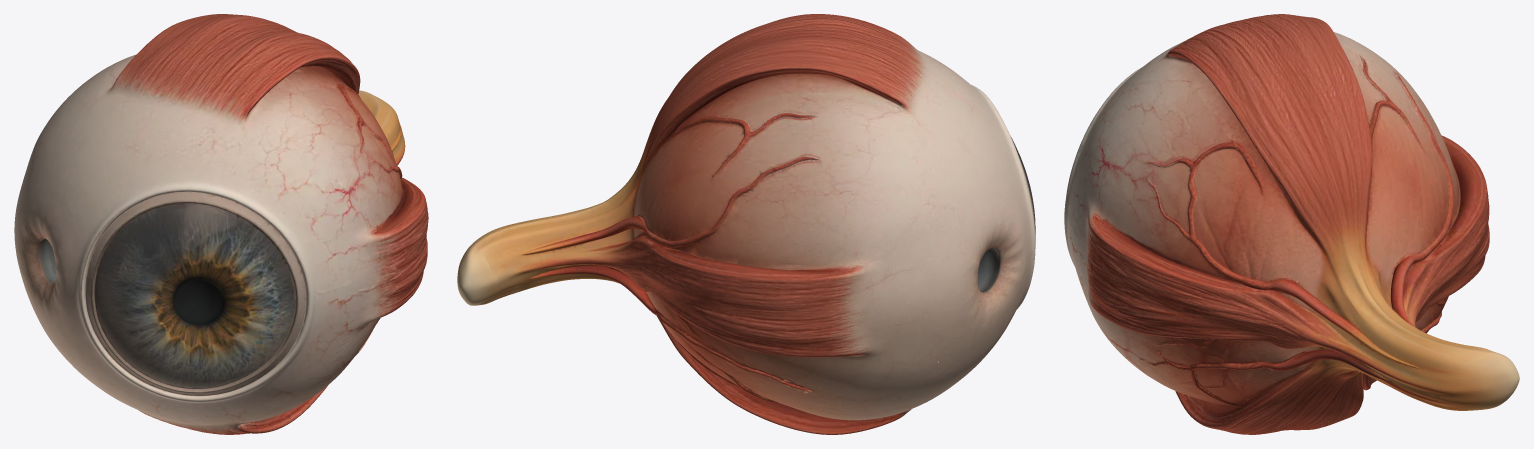
The model's file is eyeball.glb.
The picture shows the model from 3 angles, left to right: view 1: azimuth 30°, elevation 25°; view 2: azimuth 150°, elevation 25°; view 3: azimuth 270°, elevation 25°; orthographic projection.
Parts seen in each view (by area): view 1: tripo_node_ebf243bf-d3b6-4331-9960-3b03130a2b84; view 2: tripo_node_ebf243bf-d3b6-4331-9960-3b03130a2b84; view 3: tripo_node_ebf243bf-d3b6-4331-9960-3b03130a2b84.
Part boxes in pixels (x1,y1,x2,y2): tripo_node_ebf243bf-d3b6-4331-9960-3b03130a2b84: (14, 14, 428, 434); tripo_node_ebf243bf-d3b6-4331-9960-3b03130a2b84: (457, 14, 1035, 434); tripo_node_ebf243bf-d3b6-4331-9960-3b03130a2b84: (1064, 14, 1519, 434).
Size of the model in its own units: 0.9793 by 0.8046 by 0.8529.
Materials: 1 (1 with a texture image).
